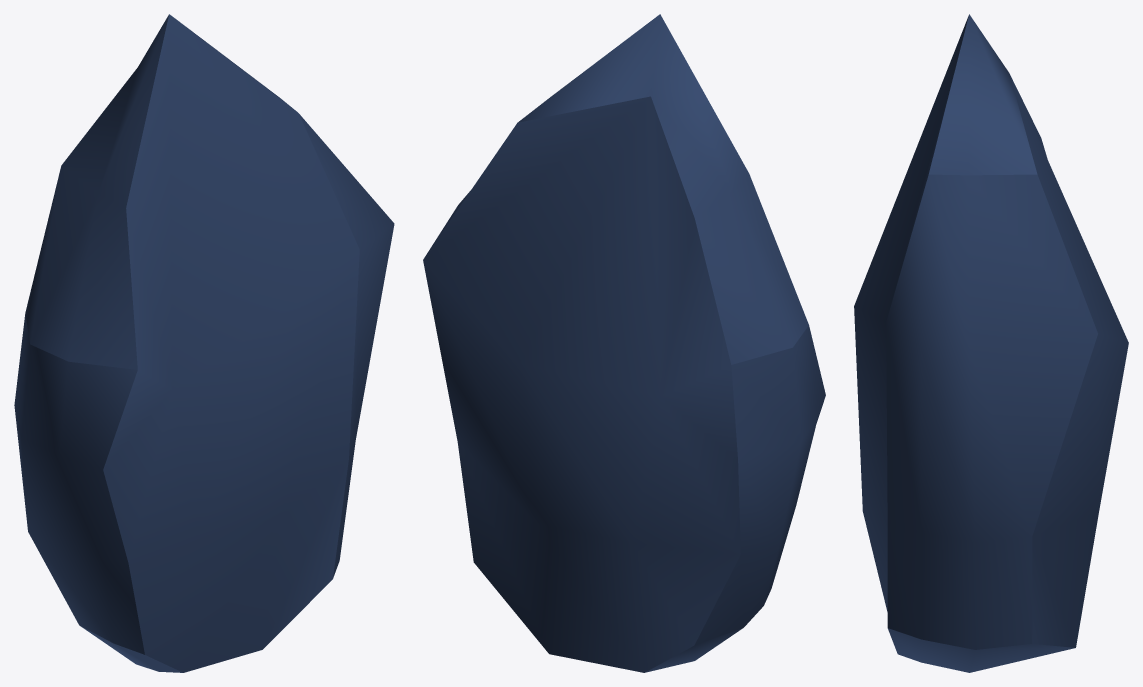
File: AStone'sThrow.FBX
The picture shows the model from 3 angles, left to right: view 1: azimuth 30°, elevation 25°; view 2: azimuth 150°, elevation 25°; view 3: azimuth 270°, elevation 25°; orthographic projection.
Parts seen in each view (by area): view 1: Box001; view 2: Box001; view 3: Box001.
Part boxes in pixels (bbox=[...]): Box001: bbox=[14, 14, 394, 672]; Box001: bbox=[423, 14, 825, 672]; Box001: bbox=[854, 14, 1128, 672].
Bounding box in the file's own units: 63.43 × 112 × 44.18.
